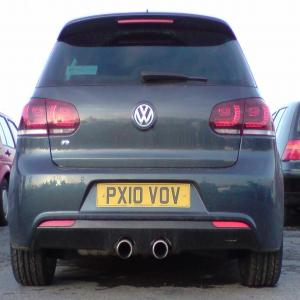Vehicle-registration-plate: (97, 182, 192, 209)
